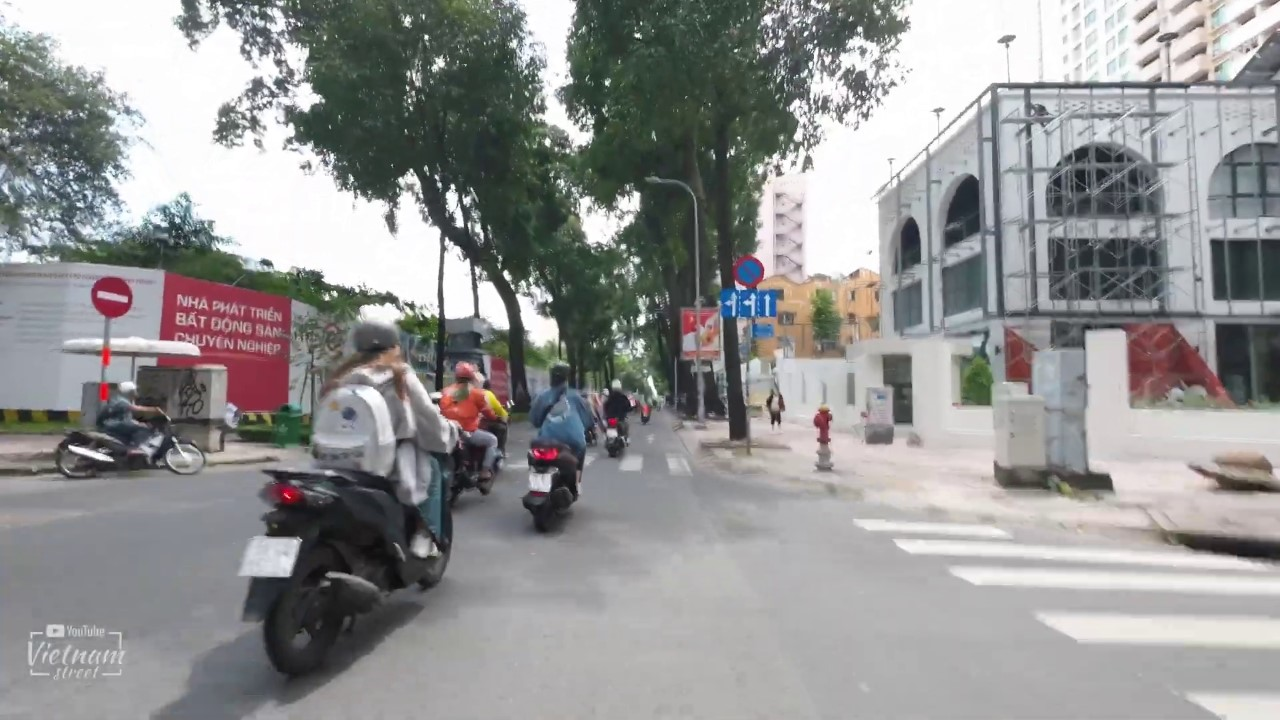cam_do_xe: (733, 255, 765, 288)
